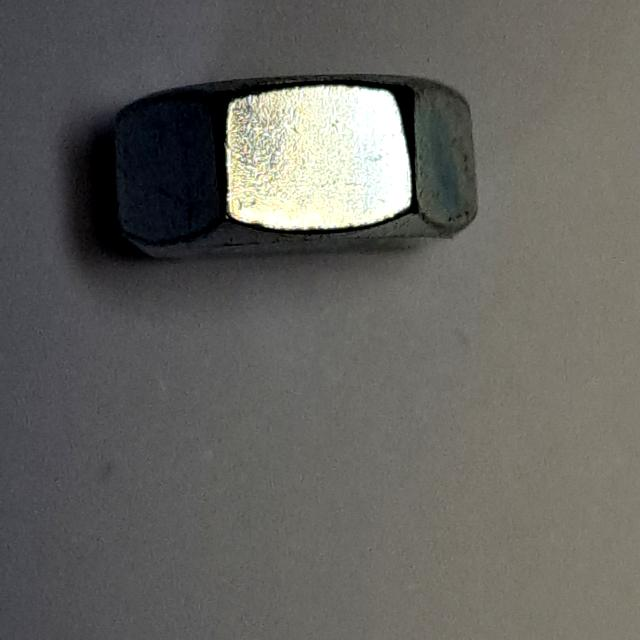Side_Excellent: (98, 44, 491, 295)
